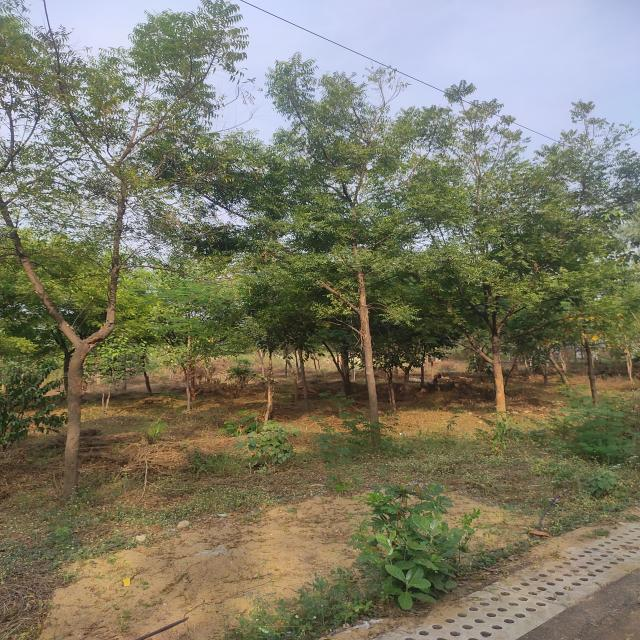Neem Tree: (9, 55, 232, 371), (287, 95, 452, 356), (481, 132, 612, 372)
